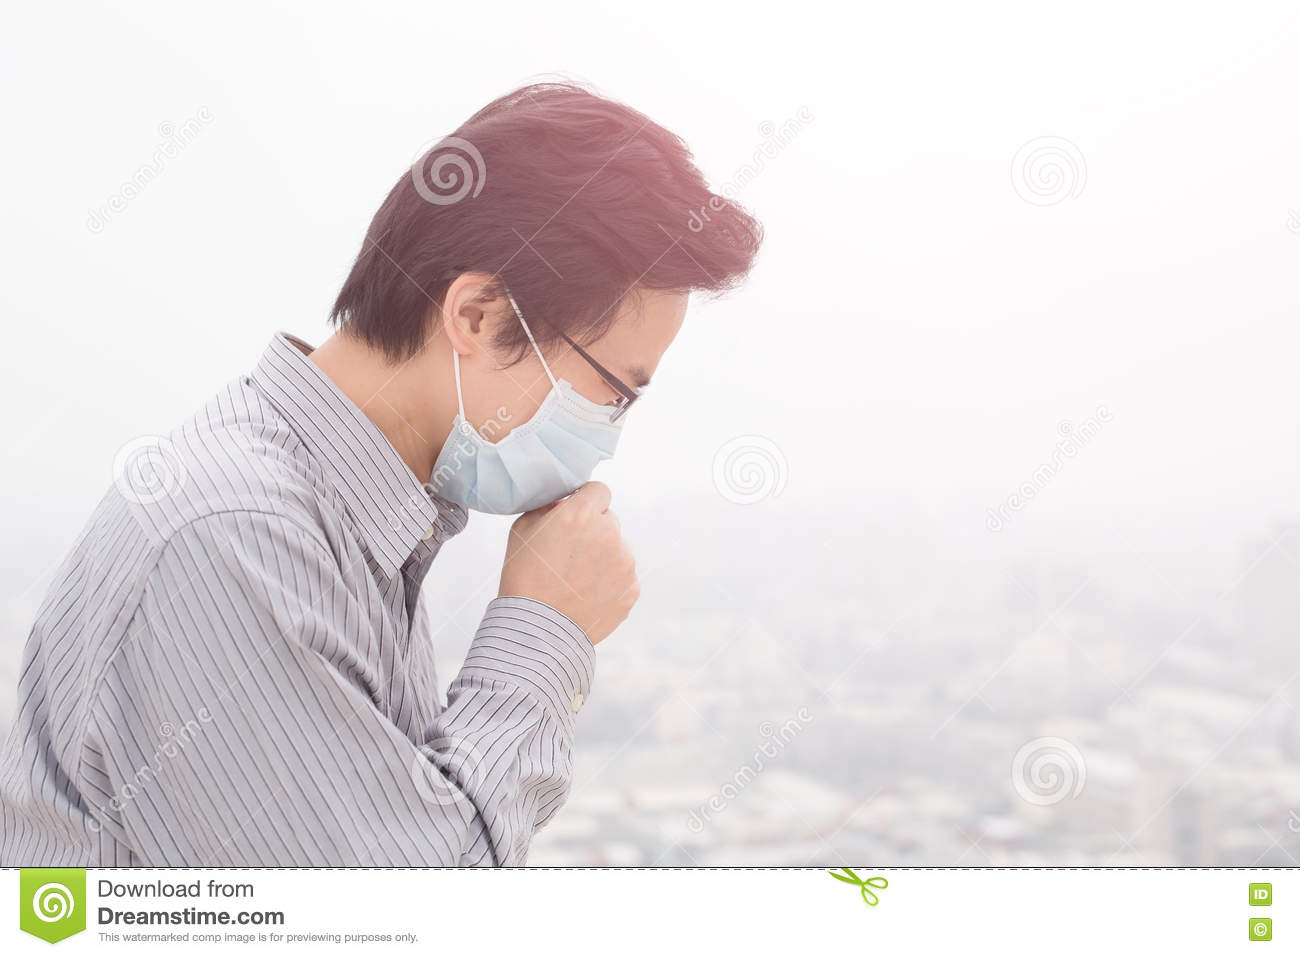mask: (450, 404, 653, 535)
